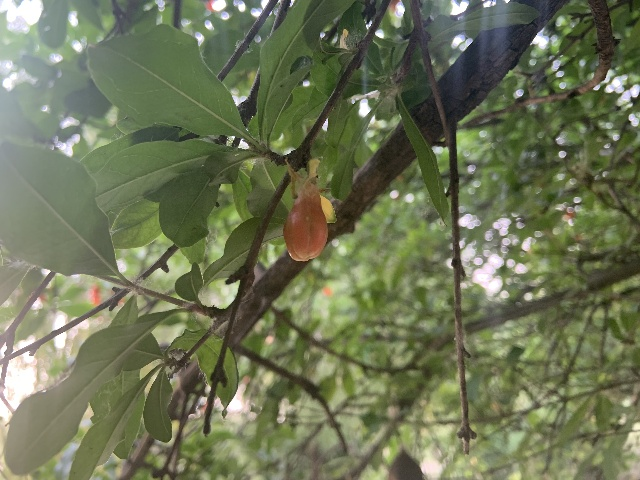bud: (283, 189, 327, 261)
